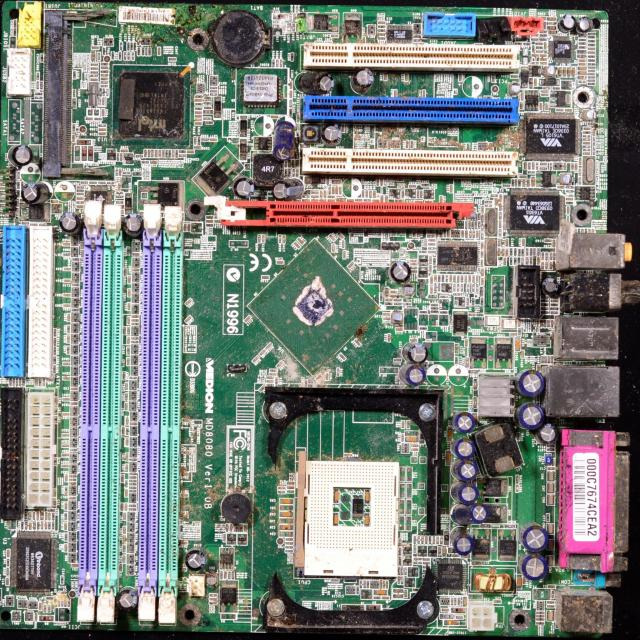Capacitor: (520, 551, 548, 580), (116, 585, 142, 615), (519, 400, 544, 430), (351, 61, 376, 91), (523, 525, 550, 552), (519, 370, 546, 396), (451, 409, 476, 436), (58, 209, 82, 236), (186, 548, 210, 572), (451, 531, 475, 554), (315, 70, 337, 94), (122, 211, 146, 233), (456, 482, 481, 503), (321, 123, 346, 144), (408, 362, 428, 388), (10, 145, 34, 166), (21, 183, 43, 205), (470, 503, 491, 526), (409, 342, 429, 365), (457, 460, 477, 482), (454, 439, 474, 460), (536, 423, 558, 442), (235, 176, 254, 198), (274, 182, 291, 206), (275, 142, 295, 162), (391, 261, 410, 280), (558, 13, 577, 30), (577, 16, 596, 33), (543, 278, 559, 294), (390, 312, 402, 324), (402, 282, 414, 294), (404, 434, 419, 442), (364, 488, 371, 504), (330, 180, 344, 187), (334, 489, 341, 502), (281, 498, 294, 505), (280, 524, 293, 530), (167, 56, 180, 62), (278, 511, 293, 516), (184, 314, 190, 325), (365, 513, 370, 526), (333, 513, 338, 526), (60, 452, 70, 458), (119, 473, 125, 483), (96, 97, 102, 107), (98, 126, 108, 132), (153, 149, 159, 159), (123, 267, 129, 277), (64, 501, 69, 512), (6, 547, 11, 558), (185, 298, 191, 307), (62, 360, 71, 366), (124, 437, 130, 446), (90, 66, 99, 72), (583, 126, 592, 132), (547, 25, 556, 31), (60, 442, 70, 447), (35, 511, 40, 521), (567, 67, 572, 77), (101, 72, 111, 77), (62, 292, 72, 297), (91, 44, 99, 50), (91, 50, 95, 62), (60, 574, 64, 586), (60, 463, 69, 468), (194, 98, 203, 103), (383, 177, 388, 186), (47, 602, 51, 613), (546, 17, 557, 21), (195, 110, 202, 116), (126, 317, 131, 325), (64, 485, 68, 495), (124, 501, 128, 511), (157, 46, 161, 56), (64, 520, 68, 530), (6, 576, 10, 586), (578, 58, 586, 63), (100, 66, 110, 70), (383, 73, 388, 81), (90, 77, 98, 82), (99, 81, 109, 85), (98, 131, 106, 136), (194, 144, 202, 149), (127, 287, 131, 297), (62, 303, 71, 307), (126, 357, 130, 366), (122, 370, 126, 379), (34, 377, 38, 386), (125, 452, 129, 461), (32, 511, 36, 520), (122, 536, 126, 545), (577, 54, 586, 58), (42, 604, 46, 613), (578, 66, 587, 70), (319, 189, 323, 198), (372, 190, 376, 199), (261, 235, 265, 244), (403, 74, 408, 81), (151, 160, 158, 165), (311, 189, 318, 194), (125, 415, 128, 426), (549, 30, 557, 34), (126, 336, 130, 344), (124, 382, 128, 390), (70, 401, 78, 405), (62, 411, 70, 415), (411, 443, 419, 447), (588, 50, 596, 54), (393, 88, 397, 96), (212, 138, 220, 142), (379, 178, 383, 186), (449, 185, 453, 193), (64, 266, 72, 270), (122, 554, 125, 564), (100, 77, 110, 80), (377, 177, 380, 187), (439, 196, 444, 202), (42, 378, 46, 385), (64, 474, 68, 481), (125, 392, 128, 401), (277, 486, 286, 489), (125, 487, 128, 496), (489, 142, 492, 151), (172, 150, 175, 159), (377, 22, 386, 25), (46, 378, 54, 381), (71, 387, 79, 390), (530, 38, 538, 41), (543, 42, 546, 50), (70, 478, 78, 481), (244, 524, 247, 532), (578, 76, 586, 79), (204, 110, 212, 113), (126, 462, 128, 473), (287, 481, 294, 484), (230, 524, 233, 531), (328, 187, 331, 194), (63, 242, 70, 245), (63, 279, 70, 282), (128, 301, 130, 311), (55, 594, 57, 604), (131, 315, 140, 317), (61, 433, 70, 435), (124, 525, 126, 534), (64, 543, 66, 552), (39, 602, 41, 611), (186, 150, 195, 152), (68, 335, 70, 343), (68, 474, 76, 476), (287, 486, 295, 488), (41, 520, 43, 528), (30, 522, 32, 530), (578, 72, 586, 74), (566, 198, 574, 200), (69, 482, 76, 484), (123, 512, 125, 519), (336, 187, 338, 194)
Connector: (566, 427, 636, 572), (546, 362, 622, 417), (28, 228, 52, 378), (3, 225, 24, 374), (0, 388, 22, 522), (561, 274, 638, 312), (27, 390, 51, 510), (556, 319, 621, 361), (555, 593, 619, 633), (564, 235, 628, 267), (7, 49, 35, 100), (18, 1, 42, 50)
IC: (117, 72, 189, 134), (14, 532, 55, 591), (526, 119, 576, 155), (510, 196, 558, 230), (438, 242, 478, 271), (156, 182, 182, 205), (220, 583, 241, 604), (552, 40, 571, 59), (387, 28, 413, 40), (353, 497, 363, 513), (221, 552, 232, 566), (526, 94, 539, 104), (511, 82, 521, 94), (546, 77, 558, 85), (108, 148, 116, 159), (522, 71, 529, 83), (532, 65, 538, 76)
Resistor Network: (213, 97, 221, 117), (380, 242, 400, 249), (191, 222, 204, 232), (423, 188, 434, 199), (140, 35, 150, 46), (104, 37, 114, 48), (210, 74, 219, 86), (406, 188, 414, 201), (125, 564, 135, 574), (24, 610, 34, 620), (479, 141, 489, 151), (390, 188, 400, 198), (131, 242, 141, 252), (128, 379, 137, 390), (69, 484, 78, 495), (129, 492, 138, 503), (227, 534, 236, 545), (197, 82, 206, 93), (124, 153, 133, 164), (130, 412, 139, 422), (129, 425, 138, 435), (368, 25, 376, 36), (70, 344, 78, 355), (130, 354, 138, 365), (70, 404, 78, 415), (70, 436, 78, 447), (68, 498, 76, 509), (68, 530, 76, 541), (127, 553, 135, 564), (6, 594, 14, 605), (17, 599, 28, 607), (132, 271, 140, 282), (70, 378, 79, 387), (128, 400, 137, 409), (28, 600, 37, 609), (451, 228, 460, 237), (132, 293, 140, 303), (71, 322, 79, 332), (70, 356, 78, 366), (130, 365, 138, 375), (70, 416, 78, 426), (70, 452, 78, 462), (68, 520, 76, 530), (69, 542, 77, 552), (126, 542, 134, 552), (69, 553, 77, 563), (12, 610, 20, 620), (131, 325, 138, 336), (130, 461, 137, 472), (70, 298, 78, 307), (68, 510, 76, 519), (128, 531, 134, 543), (132, 258, 140, 267), (72, 286, 78, 298), (71, 333, 78, 343), (71, 366, 78, 376), (70, 427, 77, 437), (130, 436, 137, 446), (72, 272, 79, 282), (128, 510, 134, 521), (128, 521, 134, 532), (238, 535, 246, 543), (71, 248, 79, 256), (71, 312, 78, 321), (132, 303, 138, 313), (71, 391, 77, 401), (72, 236, 78, 246), (72, 262, 78, 272), (70, 464, 77, 472), (132, 344, 138, 353), (130, 391, 136, 400), (130, 448, 136, 457), (132, 283, 138, 292), (23, 510, 28, 520), (377, 140, 384, 147), (257, 233, 261, 244), (577, 34, 587, 38), (588, 36, 598, 40), (578, 38, 588, 42), (578, 49, 586, 54), (118, 51, 122, 61), (529, 246, 533, 256), (132, 338, 138, 344), (119, 41, 123, 50), (110, 51, 114, 60), (525, 247, 529, 256), (541, 302, 549, 306), (550, 307, 558, 311), (540, 310, 548, 314), (132, 336, 140, 340), (53, 357, 57, 365), (126, 43, 130, 51), (278, 490, 286, 494), (472, 230, 476, 238), (513, 257, 517, 265), (424, 235, 434, 238), (517, 247, 520, 257), (551, 302, 558, 306), (54, 338, 58, 345), (235, 526, 242, 530), (225, 524, 229, 531), (6, 559, 10, 566), (468, 231, 472, 238), (509, 247, 513, 254), (223, 533, 226, 542), (6, 566, 9, 575), (509, 257, 512, 266), (551, 311, 559, 314), (132, 318, 138, 322), (131, 322, 139, 325), (590, 40, 596, 44), (578, 46, 586, 49), (142, 47, 145, 55), (52, 521, 55, 529), (127, 52, 130, 60), (566, 190, 574, 193), (565, 201, 573, 204), (544, 355, 547, 362), (287, 489, 294, 492), (52, 512, 55, 519), (131, 52, 134, 59), (588, 59, 595, 62), (465, 221, 468, 228), (462, 230, 465, 237), (54, 346, 56, 356), (130, 41, 132, 51), (134, 42, 136, 52), (378, 29, 384, 32), (54, 327, 56, 336), (542, 355, 544, 364), (579, 42, 585, 45), (536, 42, 542, 45), (146, 46, 148, 55), (565, 186, 574, 188), (534, 247, 536, 256), (540, 308, 548, 310), (548, 355, 550, 363), (128, 480, 136, 482), (130, 483, 138, 485), (22, 521, 24, 529), (124, 52, 126, 60), (587, 56, 595, 58), (506, 248, 508, 256), (378, 26, 386, 28), (540, 34, 547, 36), (588, 44, 595, 46), (129, 486, 136, 488), (48, 521, 50, 528), (522, 249, 524, 256), (552, 357, 554, 362), (40, 378, 41, 386), (45, 511, 46, 519), (551, 355, 552, 356)
Transistor: (493, 336, 515, 369), (468, 334, 488, 369)
